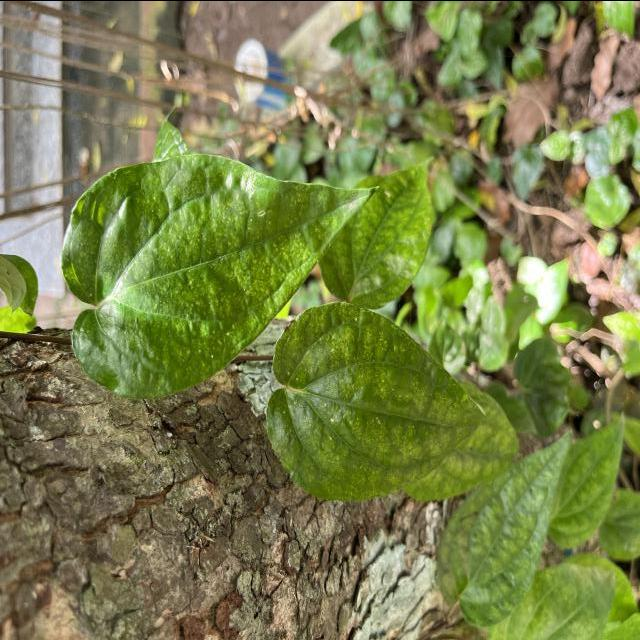Piper betle: (58, 150, 382, 401), (264, 298, 488, 503)
